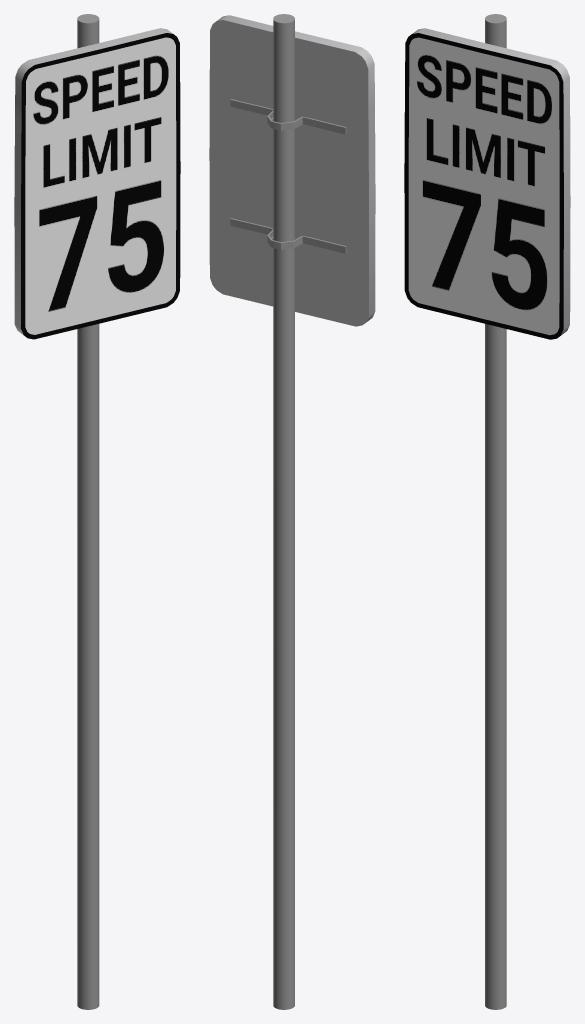
Rendered from SpeedLimit75.fbx.
3 renders of one model, left to right at view 1: azimuth 30°, elevation 25°; view 2: azimuth 150°, elevation 25°; view 3: azimuth 330°, elevation 25°, orthographic.
Visible parts, largest first — view 1: NGon001.004; view 2: NGon001.004; view 3: NGon001.004.
Part boxes in pixels (box(x1,y1,x2,y2)): NGon001.004: box(14, 14, 180, 1009); NGon001.004: box(209, 14, 375, 1009); NGon001.004: box(404, 14, 570, 1009).
Bounding box in the file's own units: 50.08 × 296 × 10.89.
